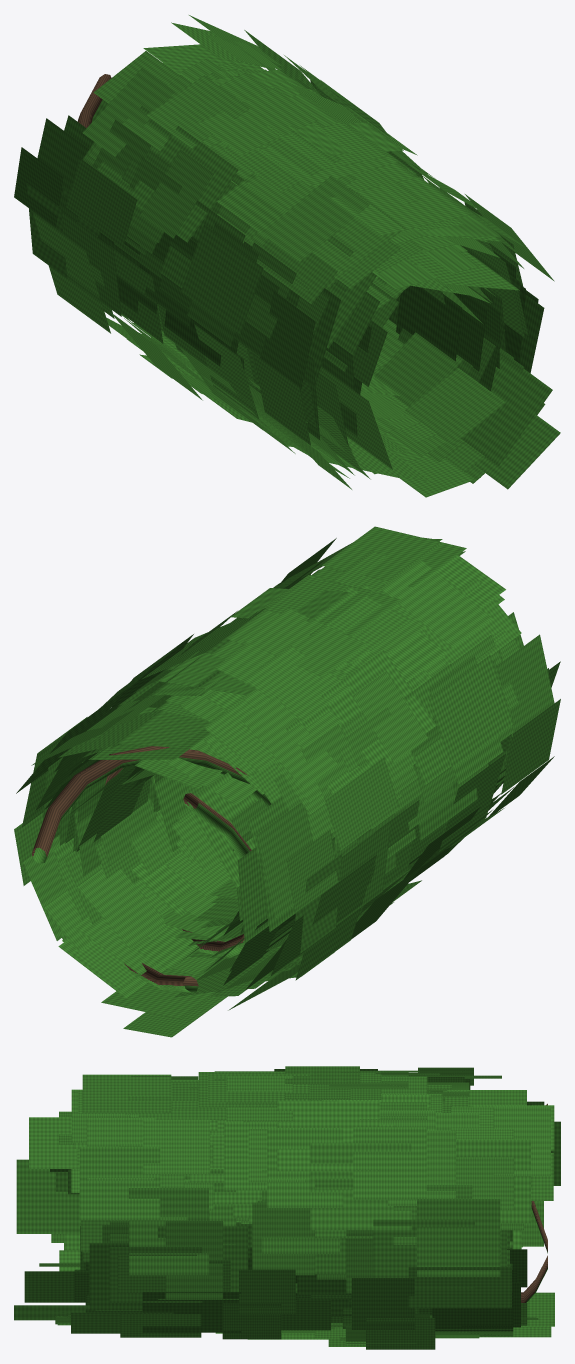
The model's file is veg_vine_pothos_01.glb.
3 renders of one model, top to bottom at view 1: azimuth 30°, elevation 25°; view 2: azimuth 150°, elevation 25°; view 3: azimuth 270°, elevation 25°, orthographic. The views are drawn at different scales.
Parts seen in each view (by area): view 1: veg_vine_pothos_01; view 2: veg_vine_pothos_01; view 3: veg_vine_pothos_01.
Part boxes in pixels (x1,y1,x2,y2): veg_vine_pothos_01: [14, 15, 560, 497]; veg_vine_pothos_01: [14, 526, 560, 1037]; veg_vine_pothos_01: [14, 1066, 560, 1349].
Bounding box in the file's own units: 0.636 × 0.6226 × 1.2.
Materials: 1 (1 with a texture image).
